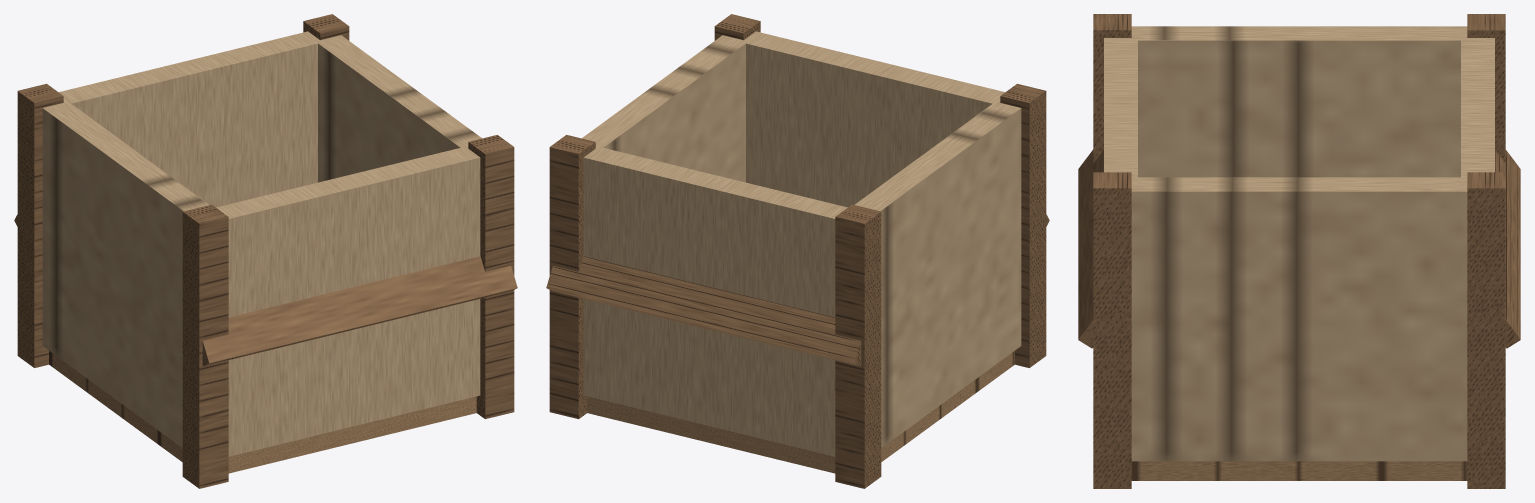
The model's file is crate.glb.
3 views of the same model, side by side, from view 1: azimuth 30°, elevation 25°; view 2: azimuth 150°, elevation 25°; view 3: azimuth 270°, elevation 25° (orthographic). The views are drawn at different scales.
Parts seen in each view (by area): view 1: c_wall.003, c_diag.001, c_floor; view 2: c_wall.003, c_diag.001, c_floor; view 3: c_wall.003, c_diag.001, c_floor.
Part boxes in pixels (box(x1,y1,x2,y2)): c_wall.003: box(42, 31, 481, 456); c_diag.001: box(14, 14, 517, 488); c_floor: box(49, 351, 476, 473); c_wall.003: box(582, 31, 1021, 456); c_diag.001: box(546, 14, 1049, 488); c_floor: box(587, 351, 1014, 473); c_wall.003: box(1104, 26, 1494, 461); c_diag.001: box(1078, 14, 1520, 488); c_floor: box(1131, 461, 1467, 480).
Size of the model in its own units: 0.97 by 0.78 by 1.04.
Materials: 3 (3 with a texture image).
